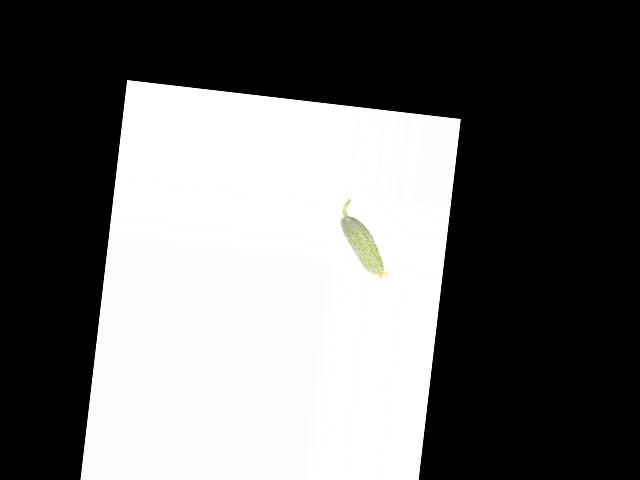cucumber: (334, 199, 397, 279)
